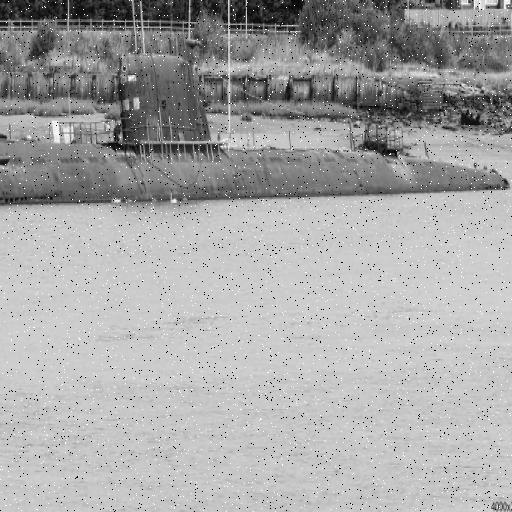submarine: (1, 37, 510, 212)
